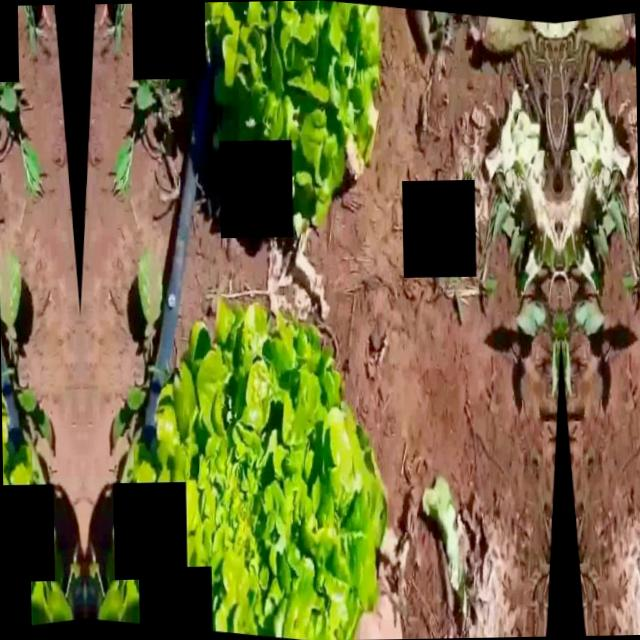healthy: (106, 301, 387, 640), (197, 0, 384, 224), (0, 306, 58, 640)
